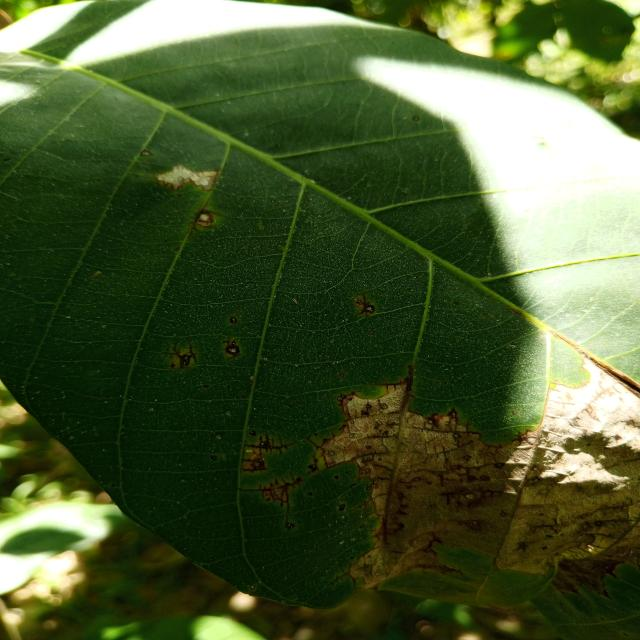Colletotrichum: (199, 210, 212, 223), (141, 149, 152, 157), (338, 503, 346, 512), (229, 316, 237, 324), (462, 454, 471, 461), (328, 449, 337, 456), (380, 403, 388, 410), (427, 419, 435, 425), (412, 476, 420, 482), (210, 455, 218, 460), (452, 433, 460, 438), (499, 512, 507, 517), (306, 491, 312, 496), (366, 404, 372, 409), (337, 402, 342, 407), (366, 457, 372, 461), (334, 475, 339, 479), (313, 458, 318, 462), (350, 420, 355, 424), (349, 434, 354, 438), (512, 411, 518, 414), (377, 458, 382, 461)
Corynespora: (236, 473, 304, 514), (414, 415, 480, 439), (376, 365, 414, 398), (244, 434, 298, 453), (166, 344, 197, 367), (328, 564, 355, 586), (353, 449, 390, 464), (535, 517, 565, 535), (241, 456, 268, 474), (357, 292, 375, 318), (222, 338, 242, 360), (367, 431, 394, 443)
Leaf-Blight: (311, 362, 640, 598), (156, 166, 219, 192)
